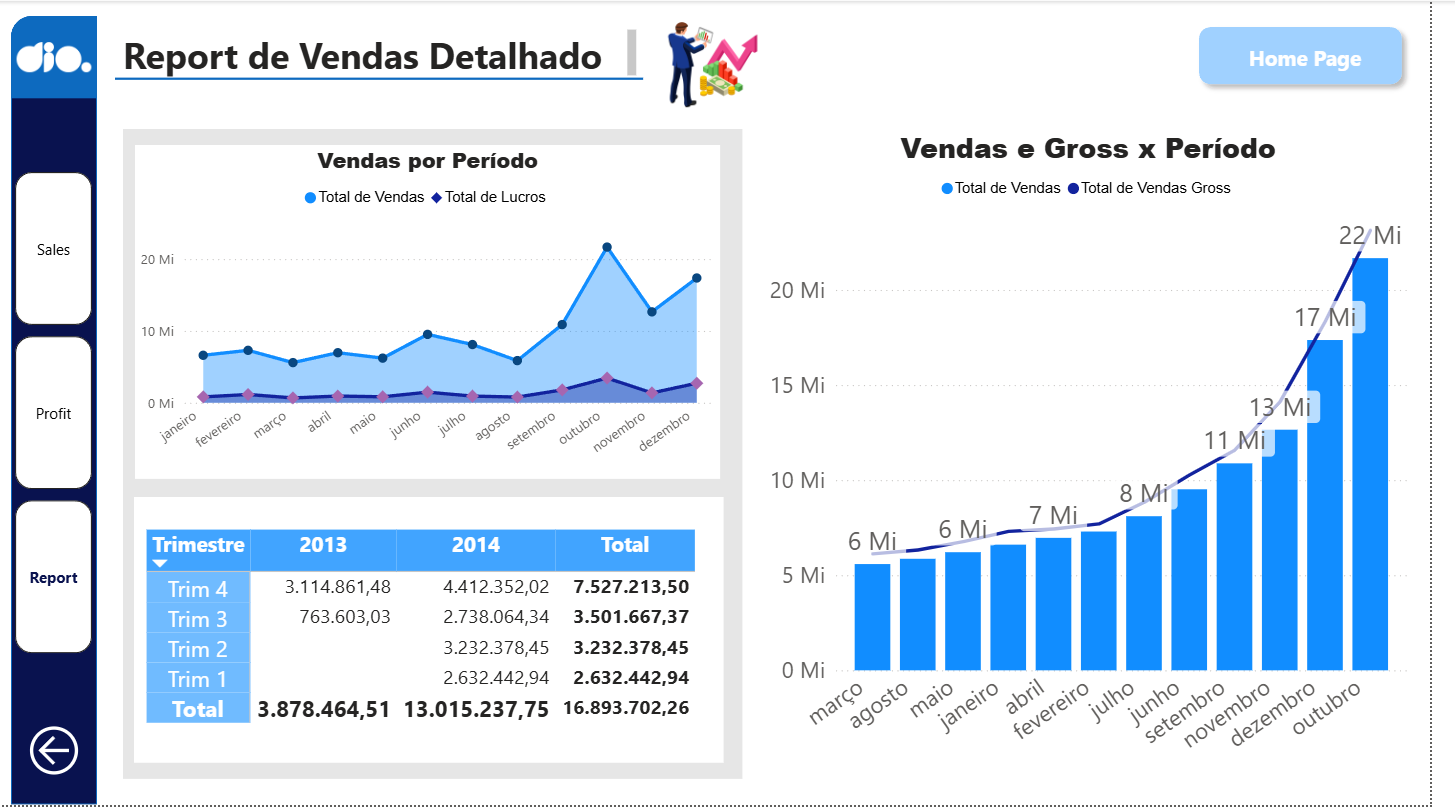

This screenshot's page, from the dashboard's own definition file:
{"tool":"powerbi","page":{"name":"Report","canvas":[1280,720],"ordinal":2},"visuals":[{"type":"shape","box":[103.1,50.8,473,37.1],"z":0,"group":"g2"},{"type":"shape","box":[103.6,103.6,569.9,601.9],"z":0,"group":"g1"},{"type":"textbox","box":[104.5,20.6,470.2,52.2],"z":1000,"group":"g2"},{"type":"lineClusteredColumnComboChart","title":"Vendas e Gross x Período","fields":{"Category":["financials.Date.Variation.Hierarquia de datas.Mês"],"Y":["Sum(financials. Sales)"],"Y2":["Sum(financials.Gross Sales)"]},"box":[684.2,114.3,580.6,582.1],"z":1000},{"type":"shape","box":[110.3,114.6,554.7,582.1],"z":1000,"group":"g1"},{"type":"image","box":[575.7,0,147.4,114],"z":2000},{"type":"shape","box":[10.1,13.4,77.2,706.3],"z":2000},{"type":"shape","box":[120.1,443.5,528.4,238.2],"z":2000,"group":"g1"},{"type":"shape","box":[10.1,13.4,77.2,73.8],"z":3000},{"type":"areaChart","title":"Vendas por Período","fields":{"Category":["financials.Date.Variation.Hierarquia de datas.Trimestre","financials.Date.Variation.Hierarquia de datas.Mês"],"Y":["Sum(financials. Sales)","Sum(financials.Profit)"]},"box":[120.9,128.6,524.2,298.7],"z":3000,"group":"g1"},{"type":"group","id":"g1","title":"Detalhes venda x profit","box":[103.6,103.6,569.9,601.9],"z":4000},{"type":"pivotTable","fields":{"Columns":["financials.Date.Variation.Hierarquia de datas.Ano"],"Rows":["financials.Date.Variation.Hierarquia de datas.Trimestre"],"Values":["Sum(financials.Profit)"]},"box":[126,468.4,509.5,189.9],"z":4000,"group":"g1"},{"type":"image","title":"logo_dio","box":[10.1,18.5,77.2,62.1],"z":5000},{"type":"group","id":"g2","title":"Sales report","box":[103.1,20.6,472.5,66.8],"z":7000},{"type":"actionButton","title":"Home Page","box":[1064.7,14.6,199.6,69.2],"z":9000,"group":"g3"},{"type":"actionButton","box":[20.6,622.4,55.6,96.9],"z":9000},{"type":"textbox","box":[1101,33.7,134.4,34.6],"z":9500,"group":"g3"},{"type":"group","id":"g3","title":"Botão home","box":[1064.7,14.6,199.6,69.2],"z":10000},{"type":"pageNavigator","box":[13.8,153.2,69.7,433.2],"z":11000}]}

Visuals, with their boxes in screenshot pixels (x1, y1, x2, y2), scaled from the page's 1280x720 canvas onto the 1455x812 screenshot:
shape: BBox(117, 57, 655, 99)
shape: BBox(118, 117, 766, 796)
textbox: BBox(119, 23, 653, 82)
"Vendas e Gross x Período" lineClusteredColumnComboChart: BBox(778, 129, 1438, 785)
shape: BBox(125, 129, 756, 786)
image: BBox(654, 0, 822, 129)
shape: BBox(11, 15, 99, 811)
shape: BBox(137, 500, 737, 769)
shape: BBox(11, 15, 99, 98)
"Vendas por Período" areaChart: BBox(137, 145, 733, 482)
"Detalhes venda x profit" group: BBox(118, 117, 766, 796)
pivotTable - financials.Date.Variation.Hierarquia de datas.Ano x financials.Date.Variation.Hierarquia de datas.Trimestre: BBox(143, 528, 722, 742)
"logo_dio" image: BBox(11, 21, 99, 91)
"Sales report" group: BBox(117, 23, 654, 99)
"Home Page" actionButton: BBox(1210, 16, 1437, 95)
actionButton: BBox(23, 702, 87, 811)
textbox: BBox(1252, 38, 1404, 77)
"Botão home" group: BBox(1210, 16, 1437, 95)
pageNavigator: BBox(16, 173, 95, 661)
